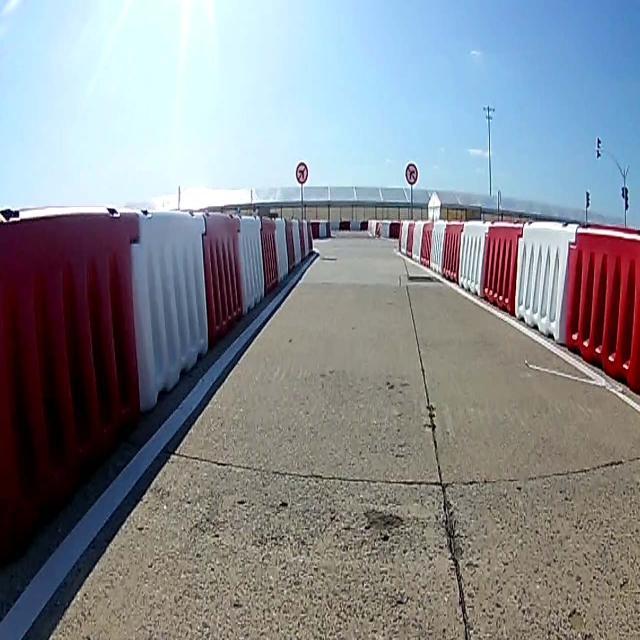sagadonulmez: (406, 162, 418, 185)
soladonulmez: (296, 160, 307, 183)
